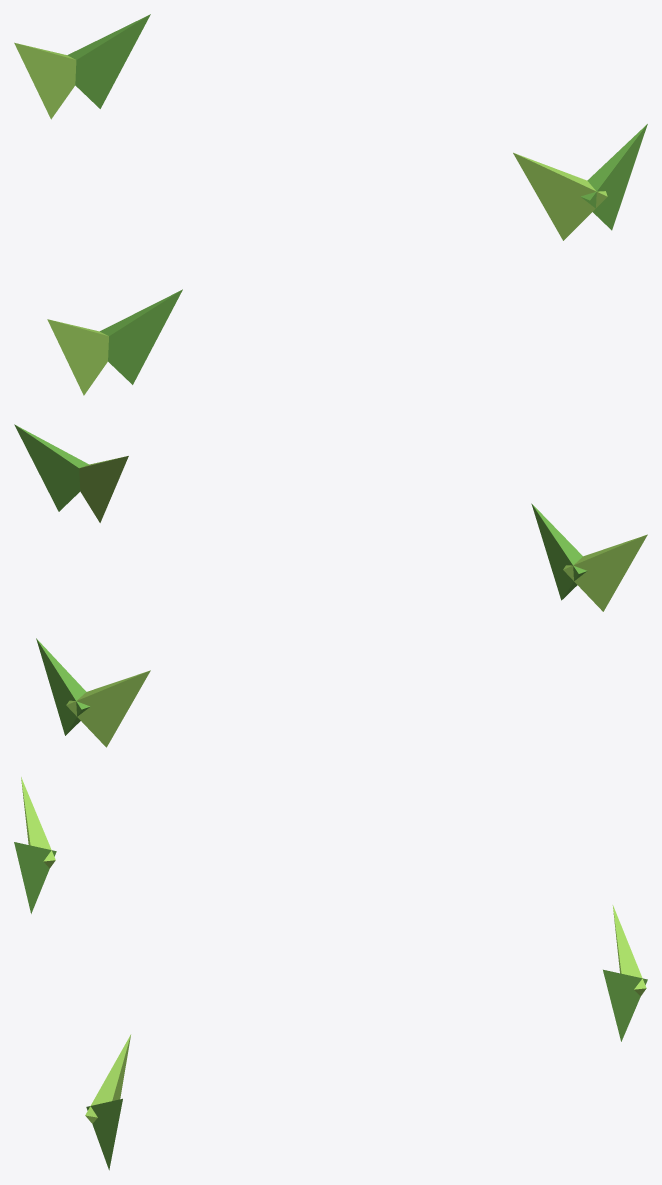
Rendered from watermelon-1.glb.
3 renders of one model, top to bottom at view 1: azimuth 30°, elevation 25°; view 2: azimuth 150°, elevation 25°; view 3: azimuth 270°, elevation 25°, orthographic. The views are drawn at different scales.
Parts seen in each view (by area): view 1: watermelon-1; view 2: watermelon-1; view 3: watermelon-1.
Boxes of the visible parts, x1=… form: watermelon-1: x1=14, y1=14, x2=647, y2=395; watermelon-1: x1=14, y1=424, x2=647, y2=747; watermelon-1: x1=14, y1=777, x2=647, y2=1170.
Bounding box in the file's own units: 0.5037 × 0.068 × 0.4185.
1 material, 1 textured.
